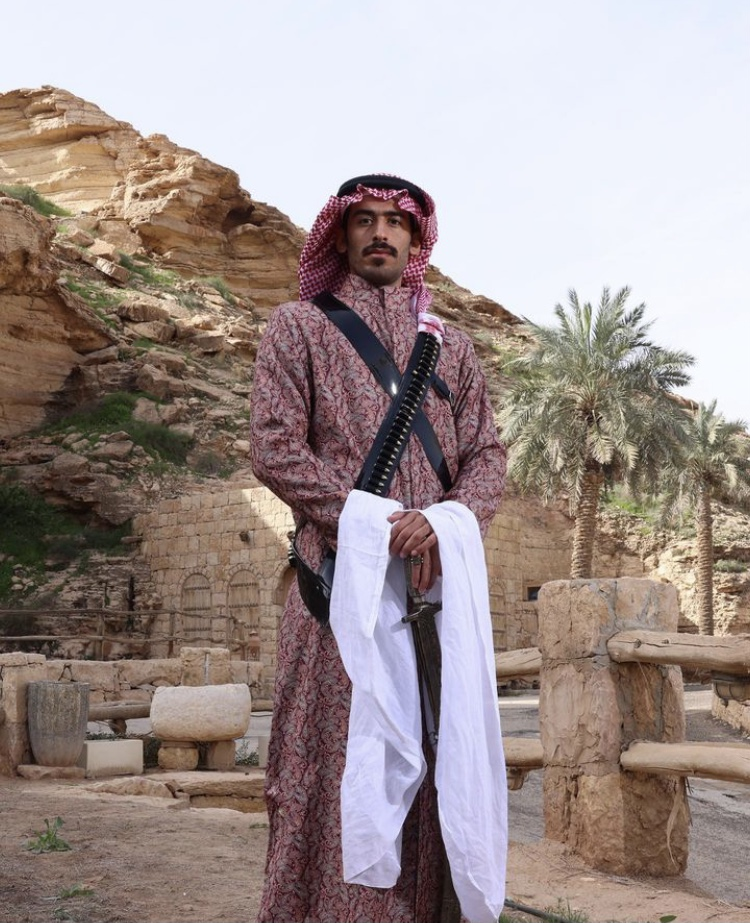Saudi_Founding_Day: (247, 171, 512, 923)
